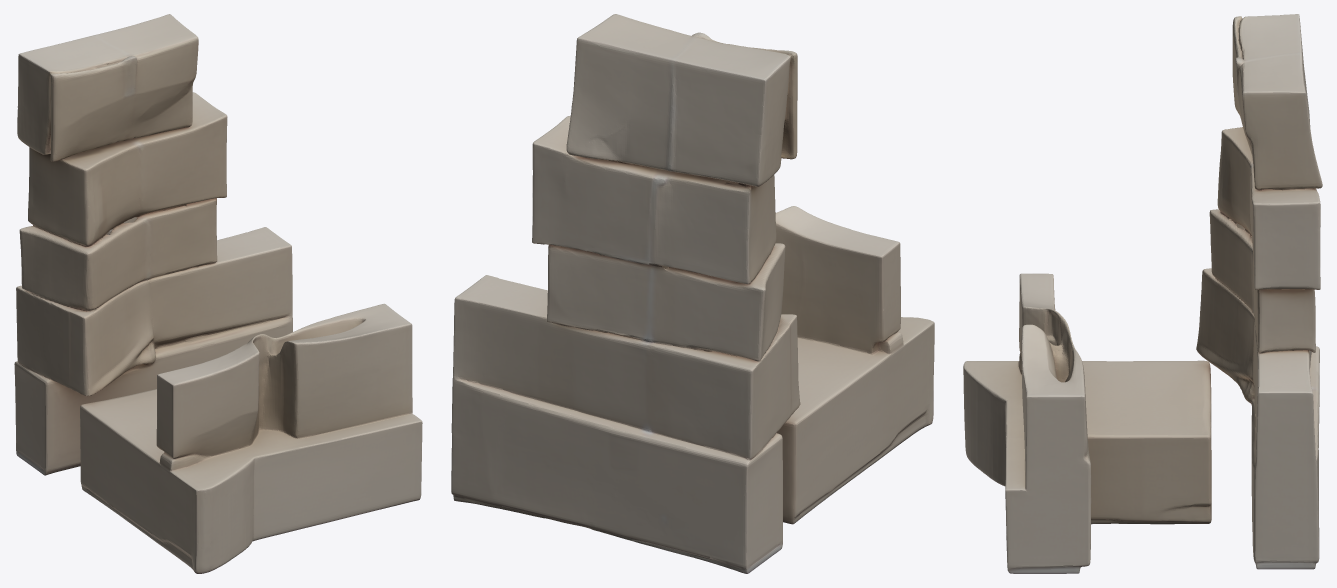
3 views of the same model, side by side, from view 1: azimuth 30°, elevation 25°; view 2: azimuth 150°, elevation 25°; view 3: azimuth 270°, elevation 25° (orthographic). The views are drawn at different scales.
Parts seen in each view (by area): view 1: geometry_0; view 2: geometry_0; view 3: geometry_0.
Boxes of the visible parts, box(x1,y1,x2,y2) form: geometry_0: box(14, 14, 422, 573); geometry_0: box(451, 14, 934, 573); geometry_0: box(963, 14, 1322, 573).
Bounding box in the file's own units: 0.6729 × 0.9996 × 0.7615.
